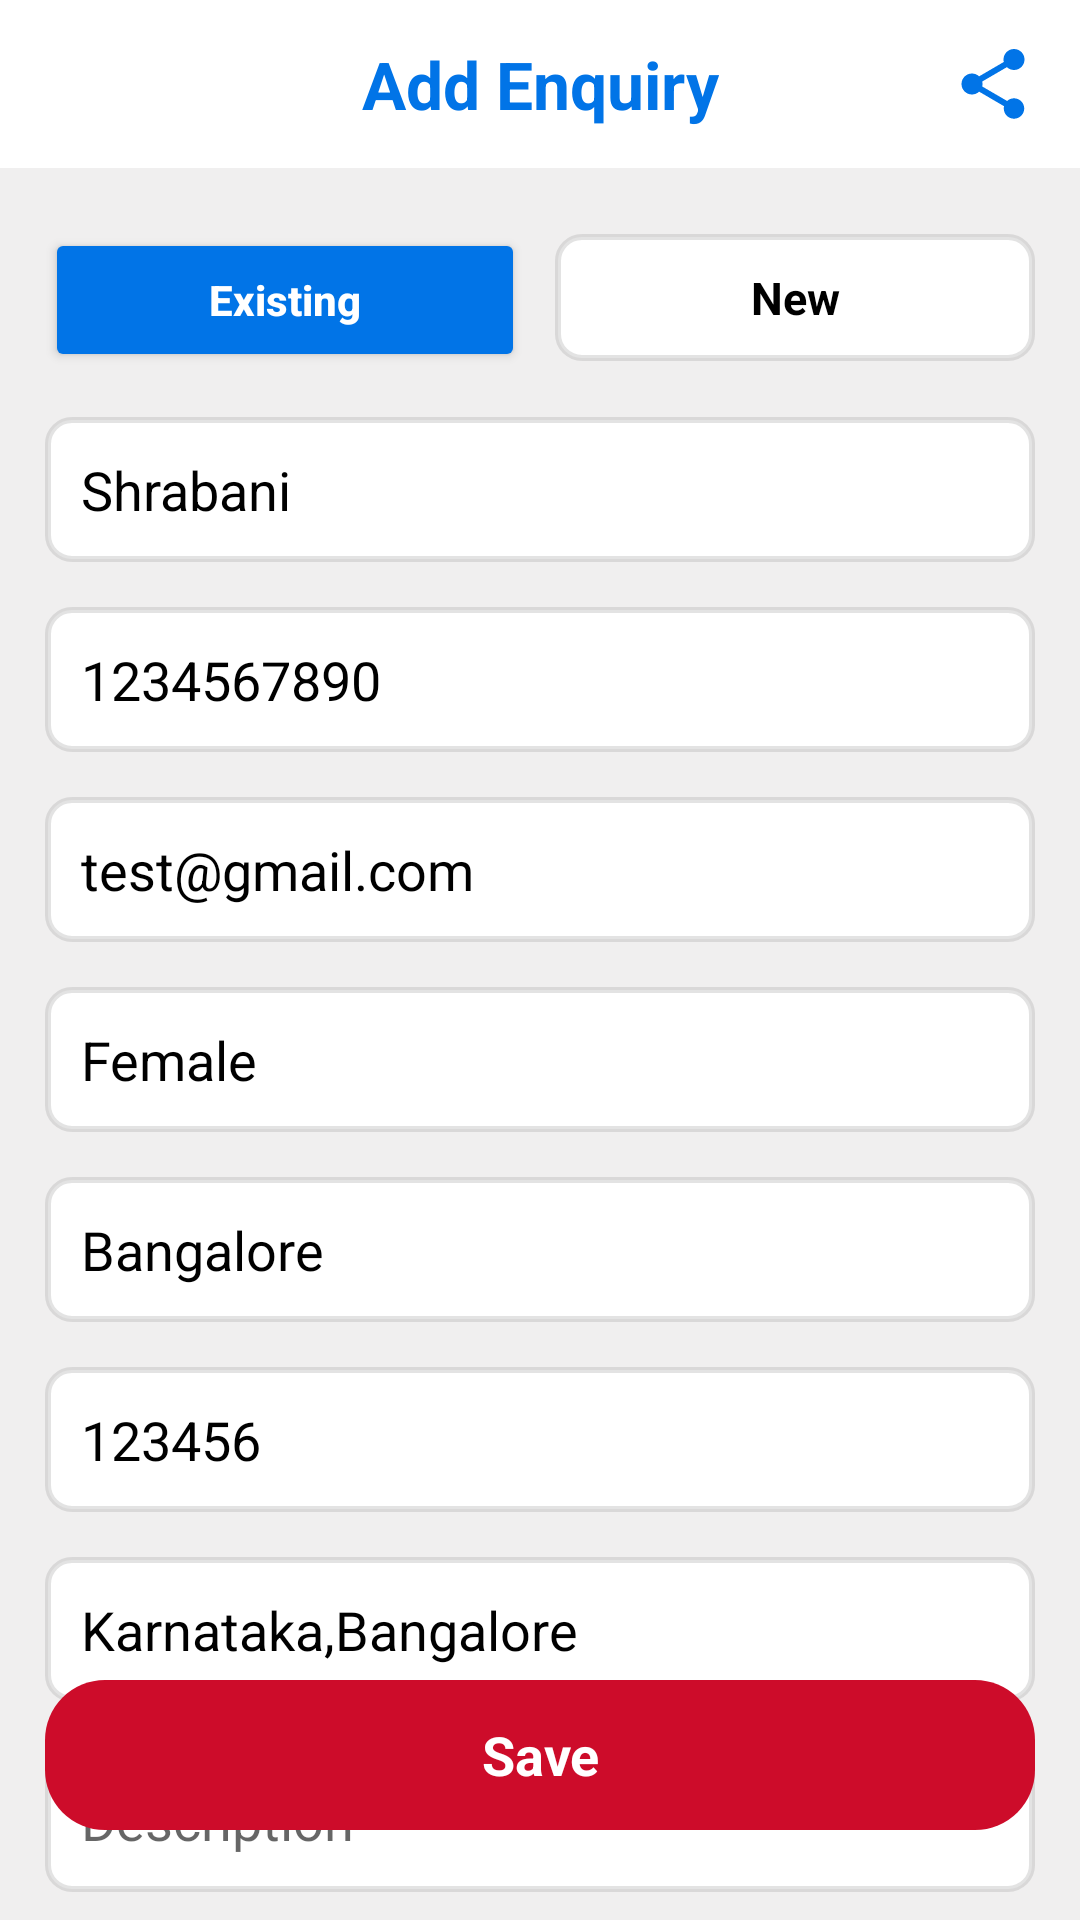

Screen size 1080 × 1920. Icon name, then its center in pixels as (x,y):
share: (993,84)
